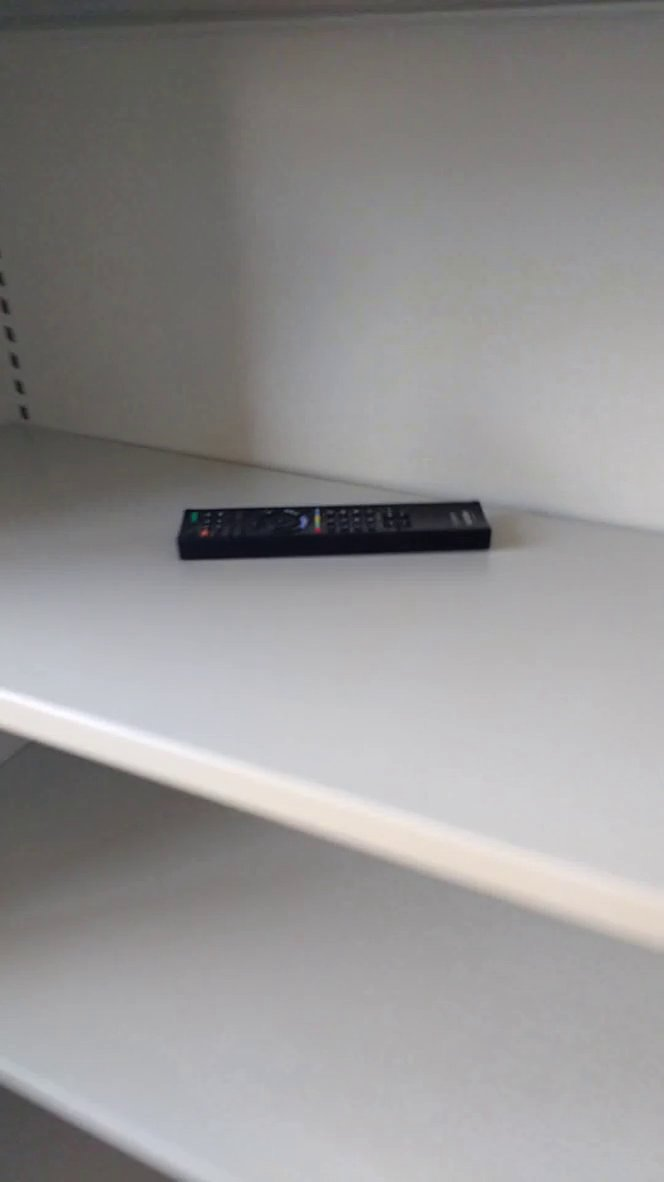remote: (171, 472, 504, 592)
